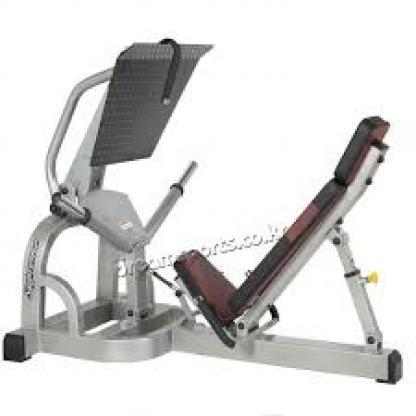leg press: (1, 37, 408, 385)
